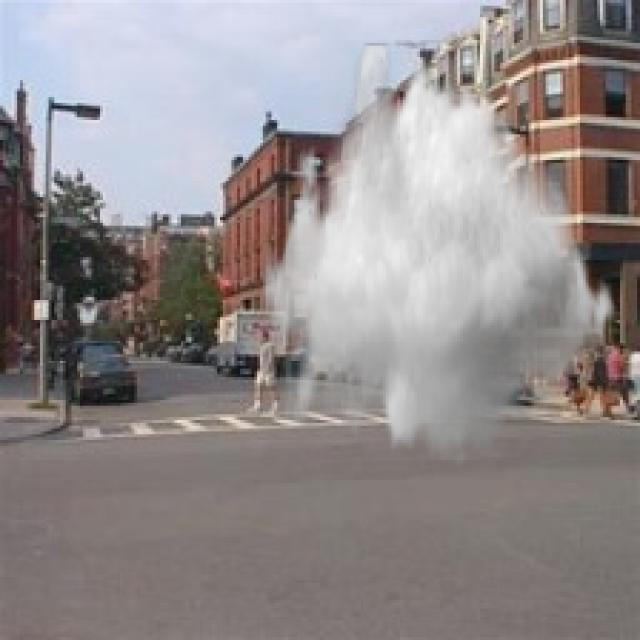Smoke: (263, 43, 623, 466)
